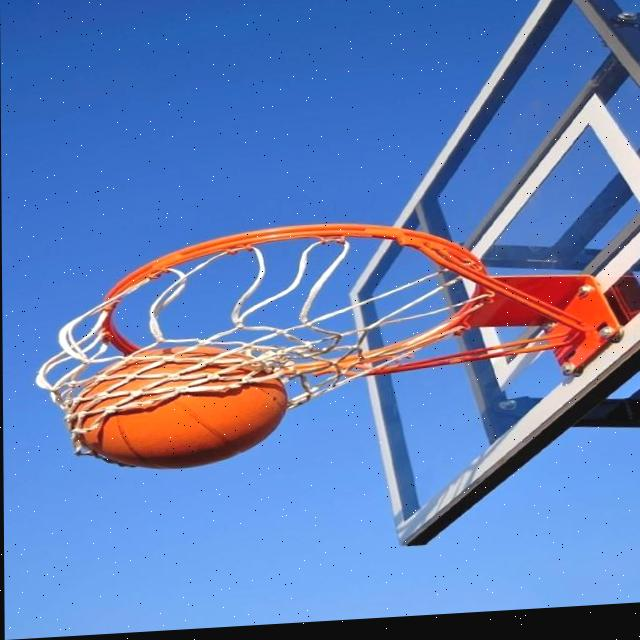Goal: (71, 340, 290, 475)
